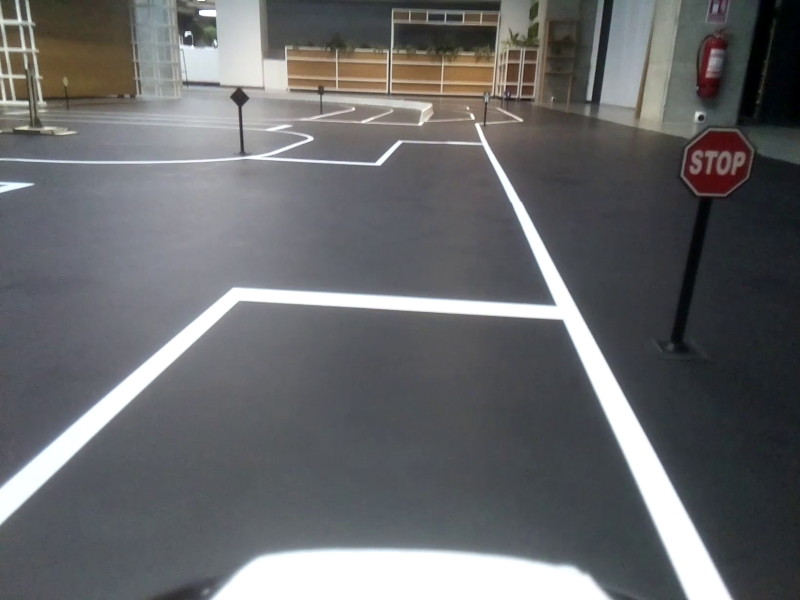stop: (677, 126, 755, 199)
